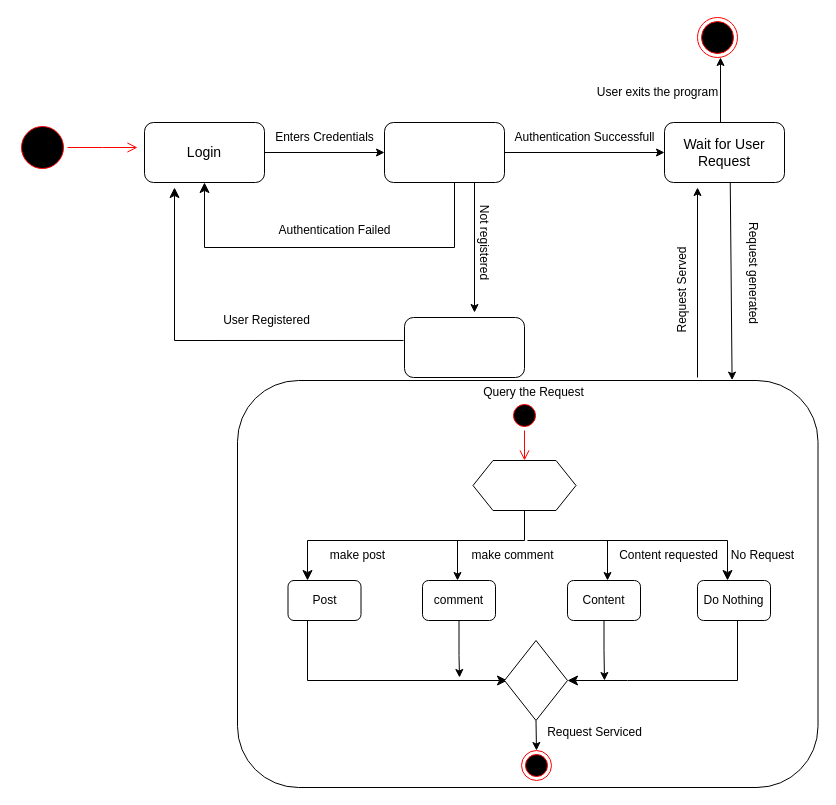
Image size: 836x805. Some labels were removed from this diagram. Here are the shapes that lost their labels. From the top down, the centre of each, then its label:
(444,152): Authenticate
(464,347): Register
(524,485): User Request
